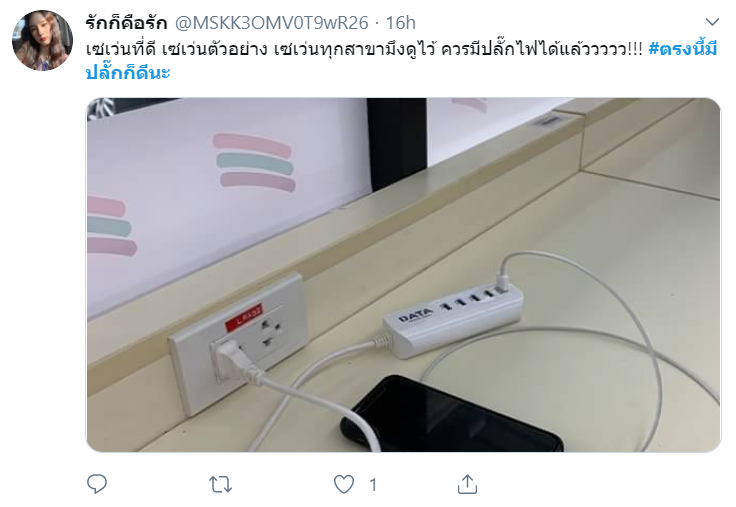Three_eye_plug: (161, 275, 340, 408), (369, 273, 543, 365)
